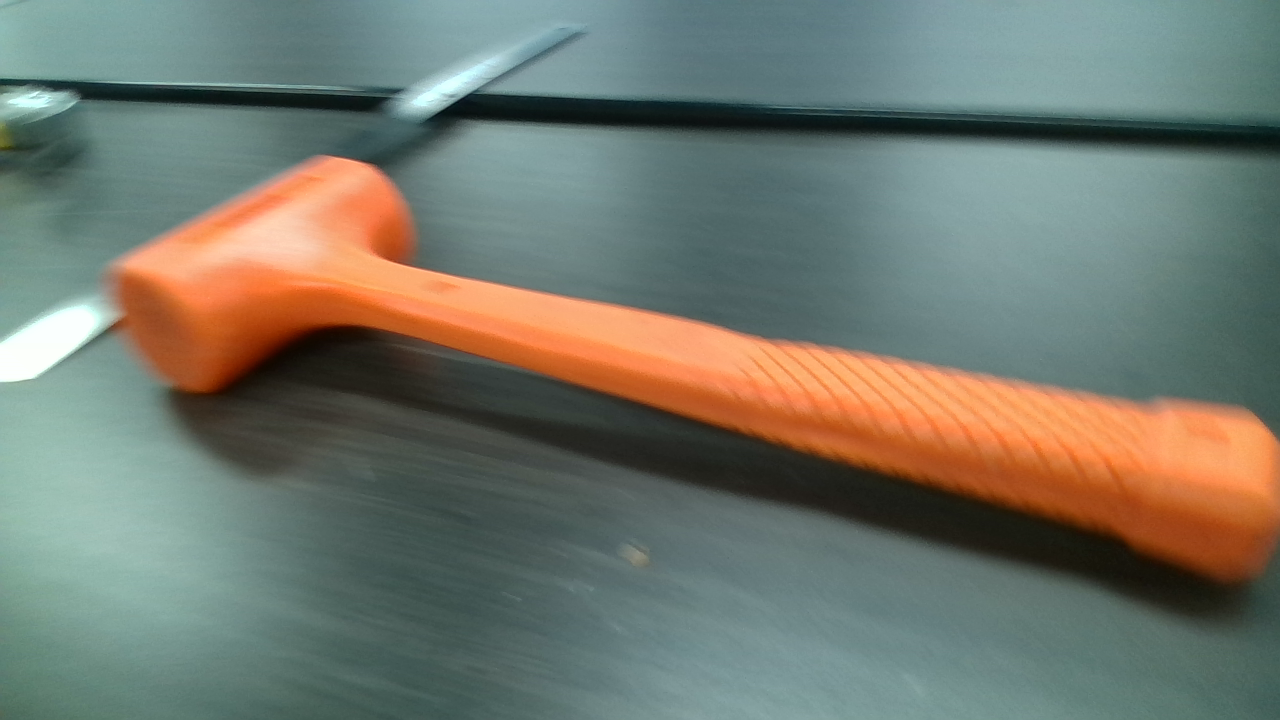Orange Hammer: (96, 153, 1280, 586)
